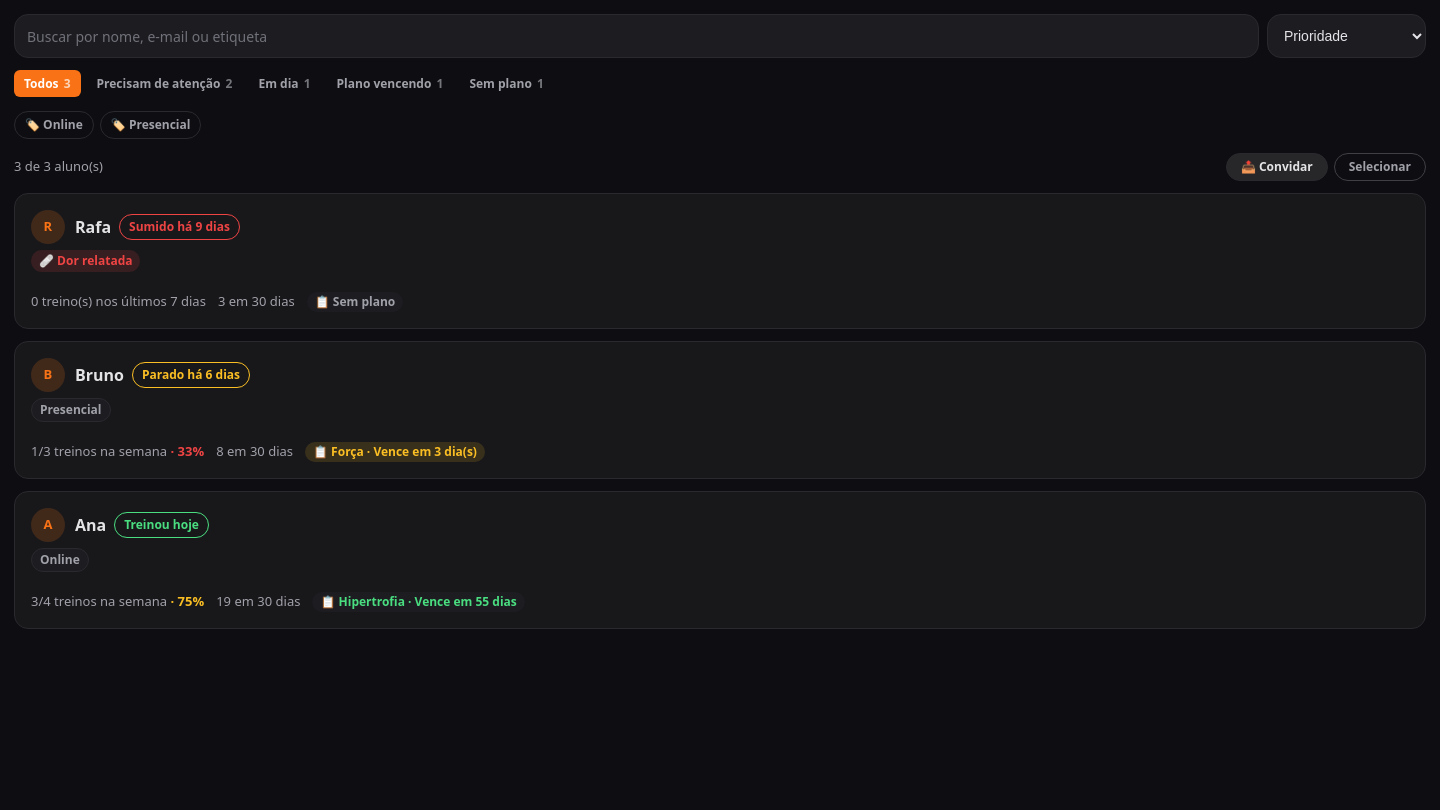
Test: AlunosPage › busca por nome, e-mail ou etiqueta, sem acento
Expected: the text "Ana" is shown, [75, 513, 106, 537]
Type "bru" into the search field named "Buscar aluno" at (636, 36), box [14, 14, 1259, 58]
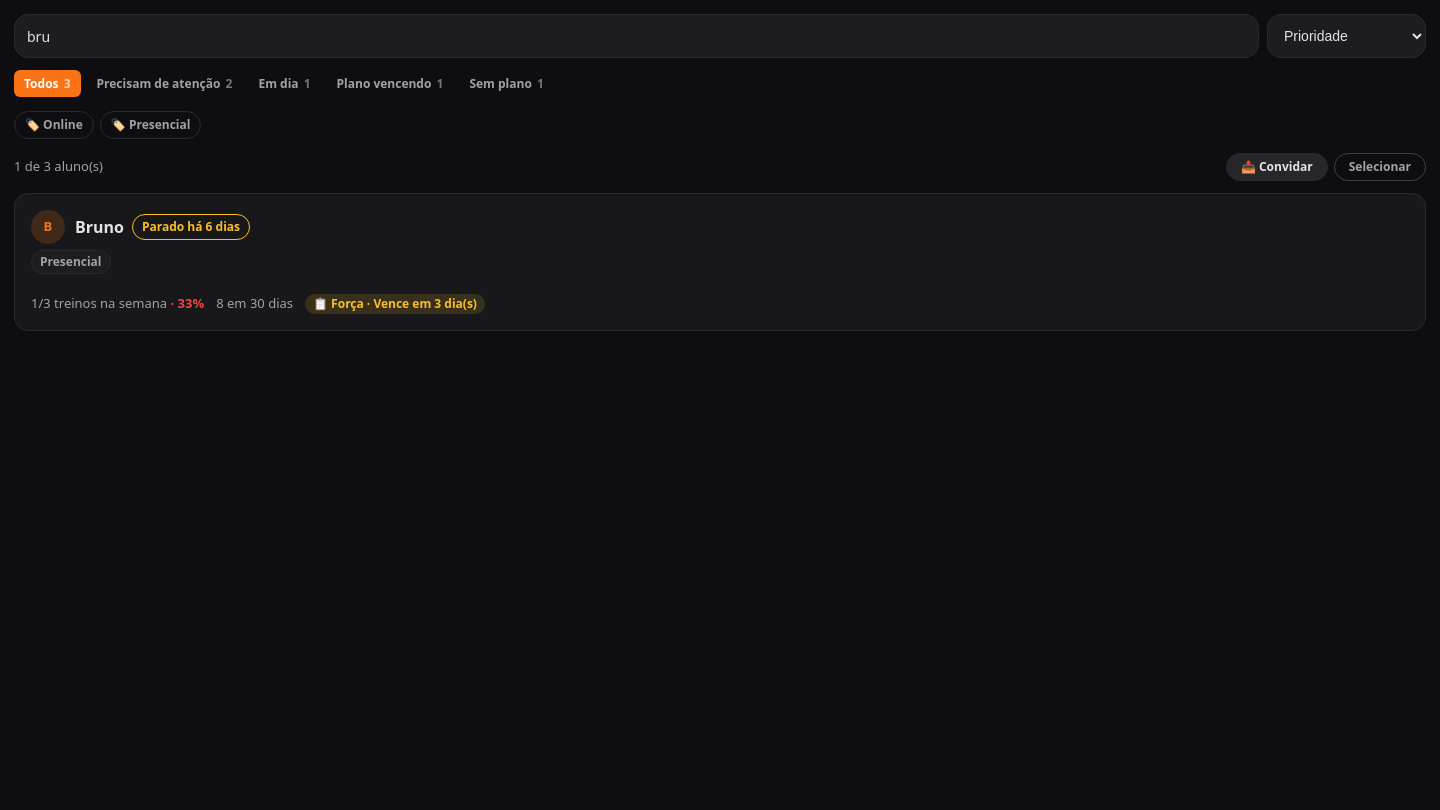
Replace the text in the search field named "Buscar aluno" with "online" at (636, 36), box [14, 14, 1259, 58]
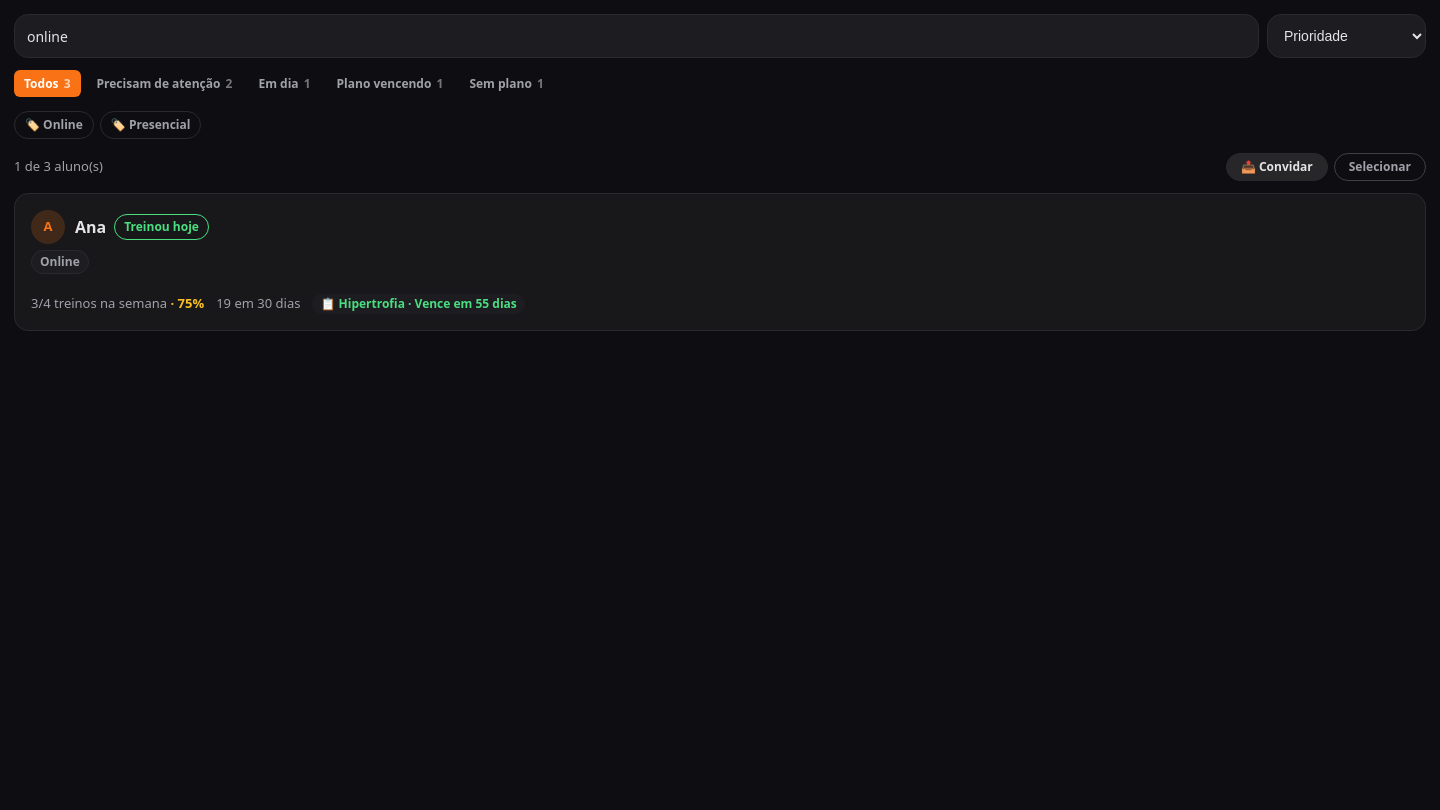
Replace the text in the search field named "Buscar aluno" with "zzz" at (636, 36), box [14, 14, 1259, 58]
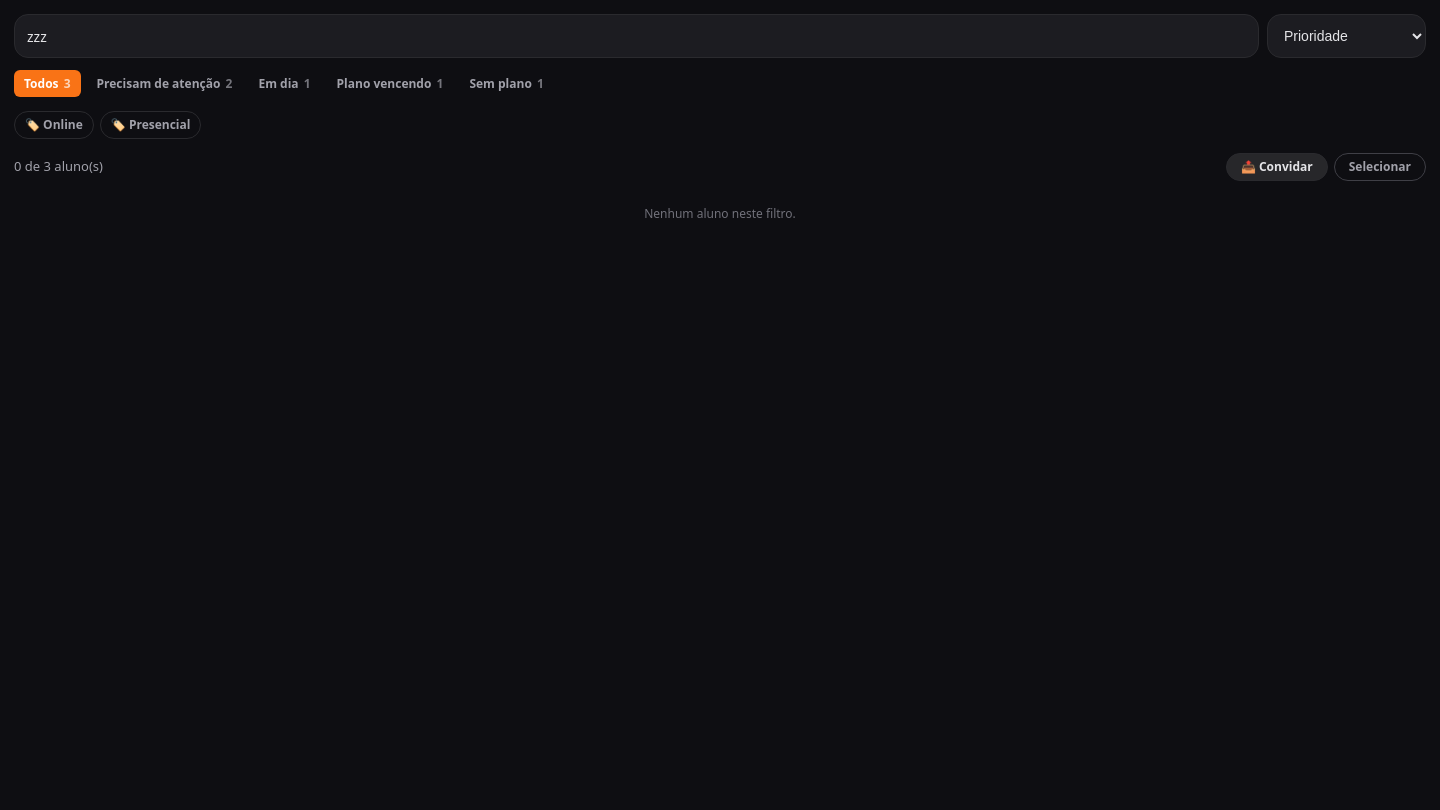
Expected: the text "Nenhum aluno neste filtro." is shown, [644, 205, 796, 222]
